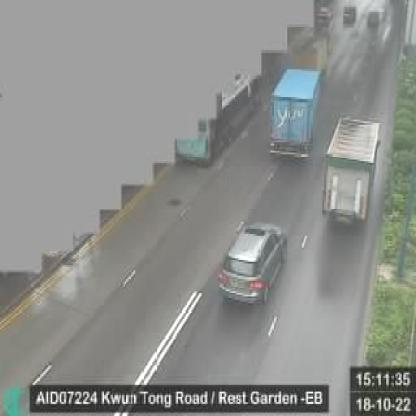Car: (217, 219, 290, 306), (343, 5, 357, 27)
Truck: (320, 118, 382, 233), (269, 66, 323, 162)
